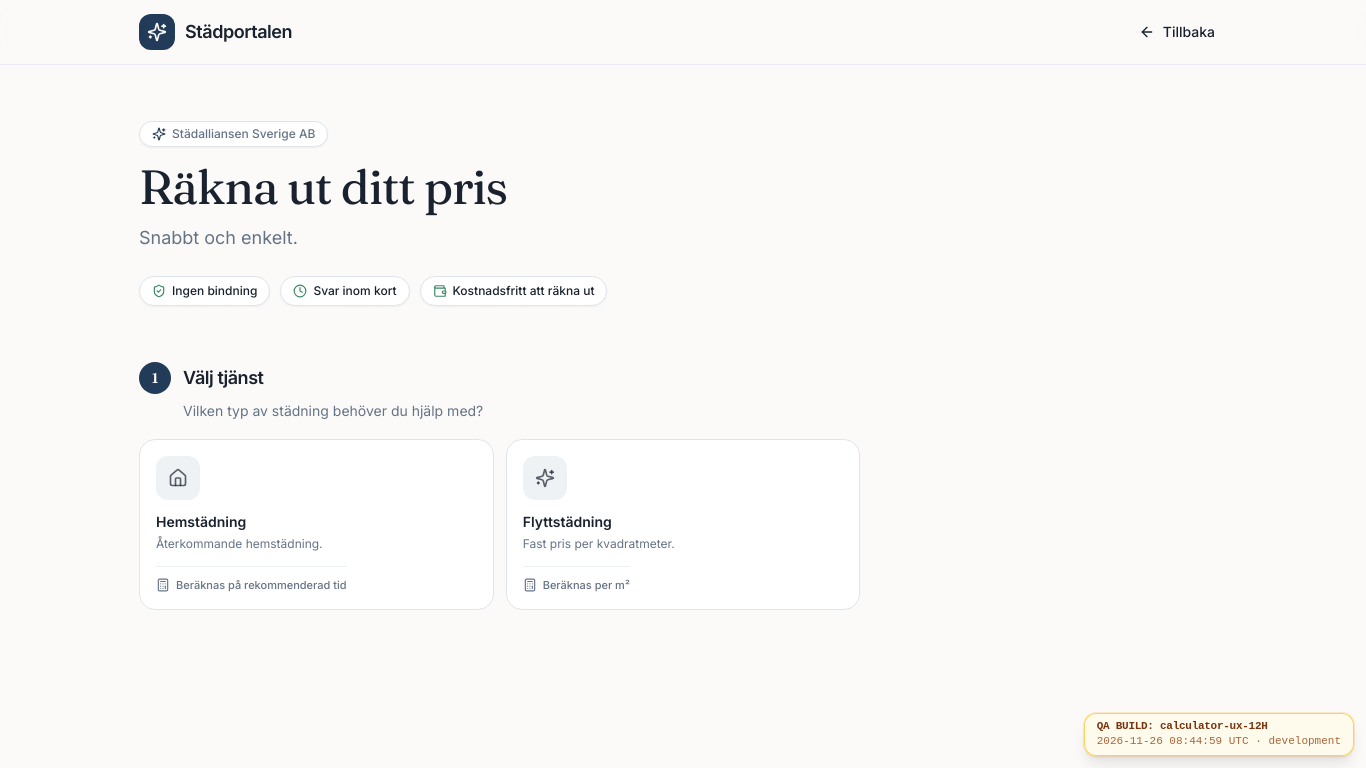
Scenario: PriceCalculator — selectable generic sqm_fixed service (GPM-9) › selecting the service renders the area / m² input in the details step
Click the button "Flyttstädning Fast pris per kvadratmeter. Beräknas per m²" at (545,478), box [506,439,860,610]
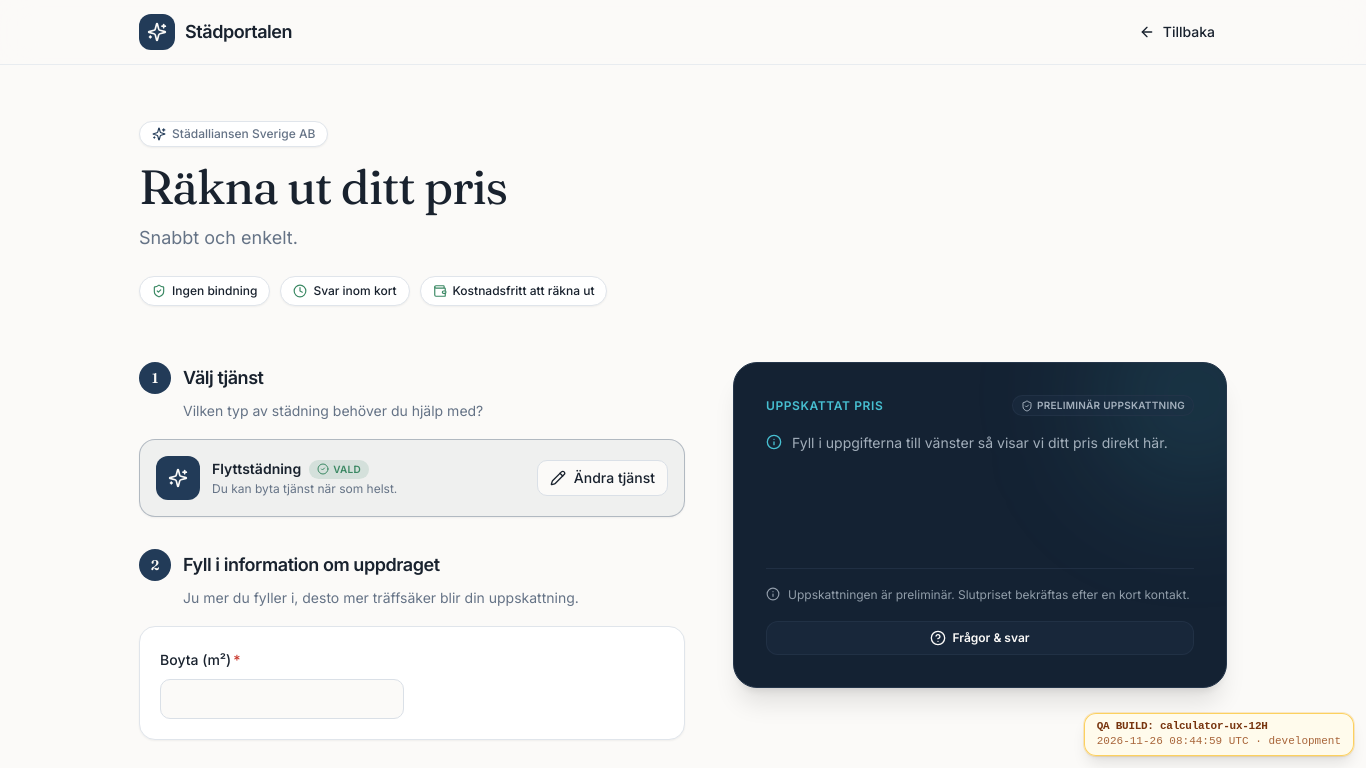
Expected: the heading "Fyll i information om uppdraget" is shown, [183,551,440,579]
Expected: the number field labelled "Boyta (m²)*" is shown, [160,679,404,719]
